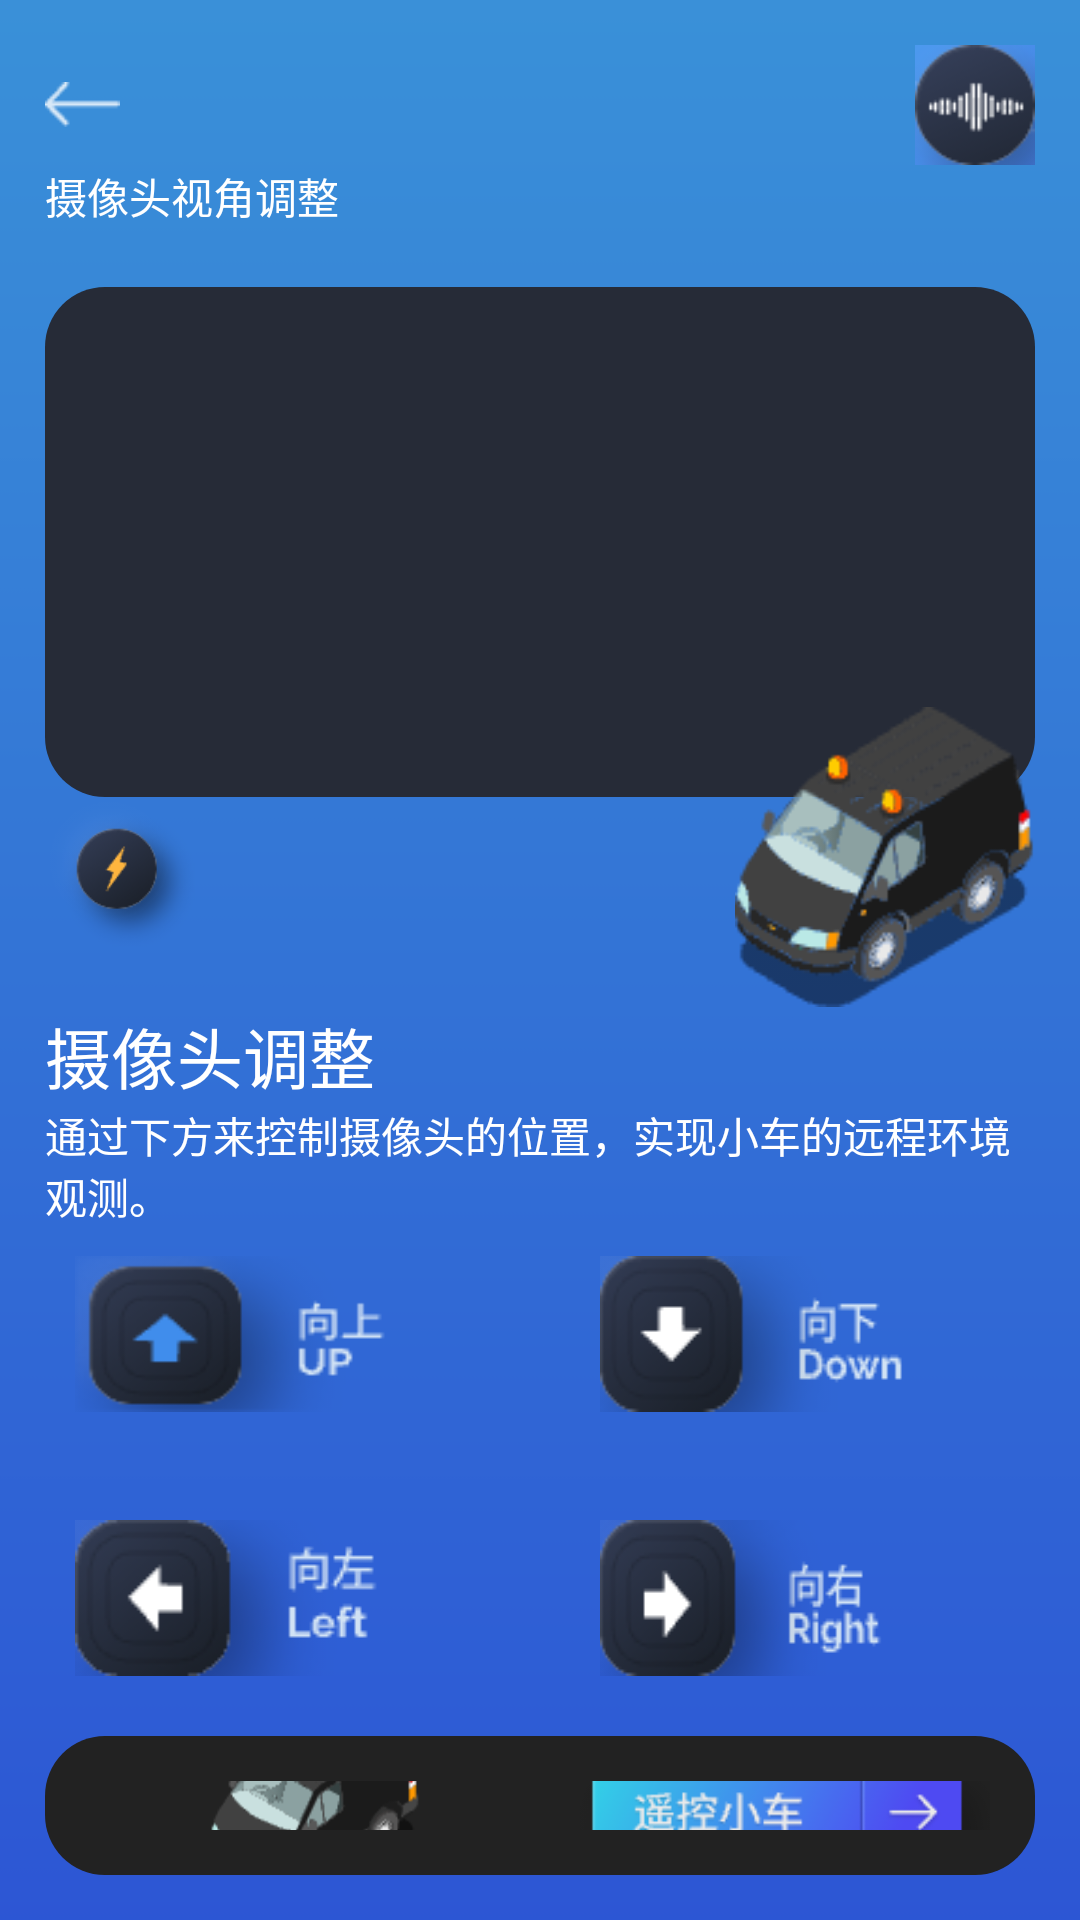

Icon bounding boxes for this 1080×1920 phone screenshot, format region(x1, y1, x2, y2):
ret: region(45, 82, 120, 127)
